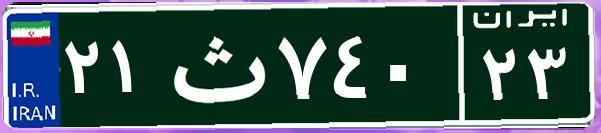0: (385, 28, 445, 110)
1: (110, 28, 158, 105)
2: (57, 26, 110, 107), (475, 38, 525, 113)
3: (525, 38, 570, 115)
4: (330, 28, 385, 110)
7: (273, 28, 330, 110)
ث: (158, 15, 273, 115)
